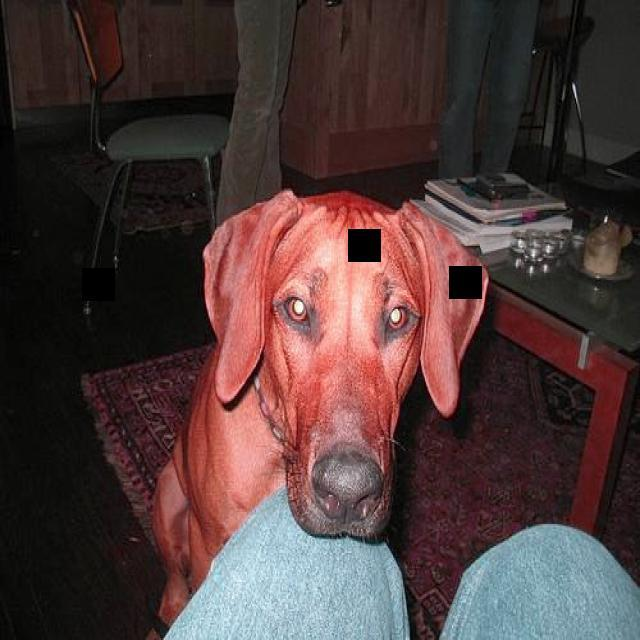adult_dog: (149, 188, 488, 626)
